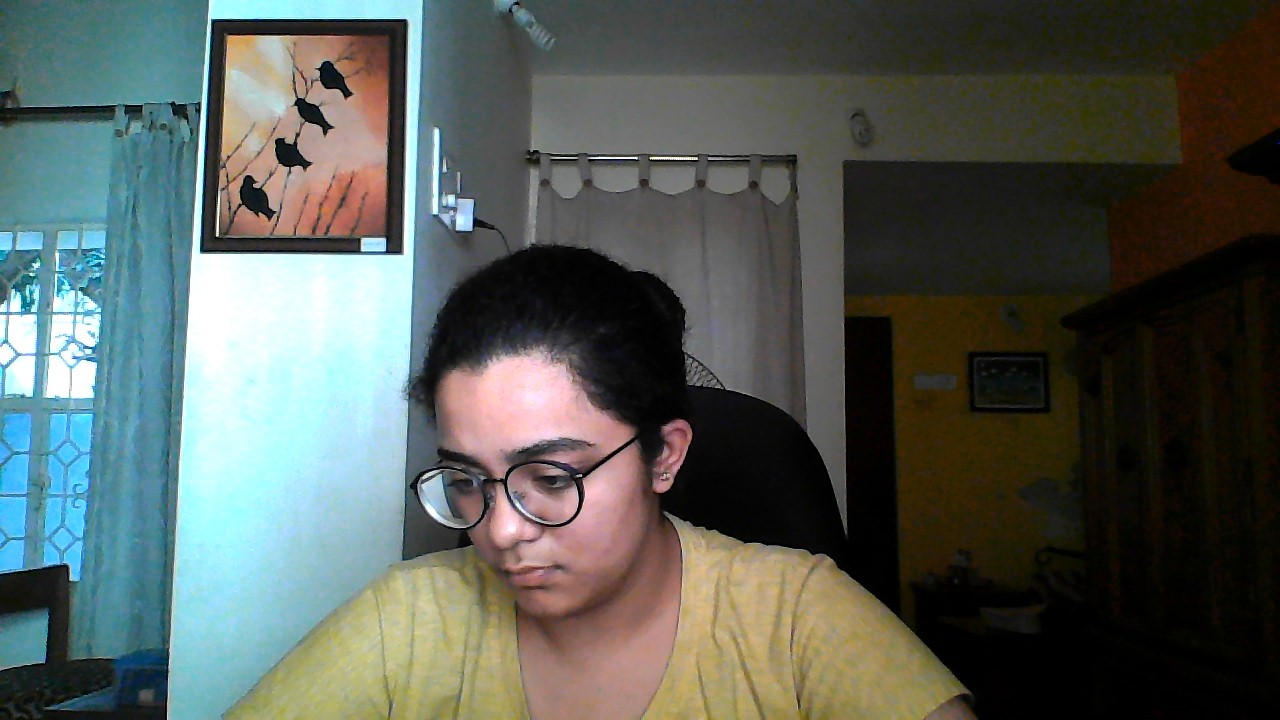person: (374, 193, 931, 666)
